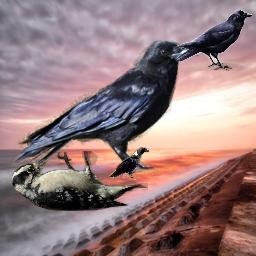Crow: (12, 36, 199, 180), (175, 10, 252, 71), (108, 147, 149, 180)
Woodpecker: (12, 151, 148, 211)
